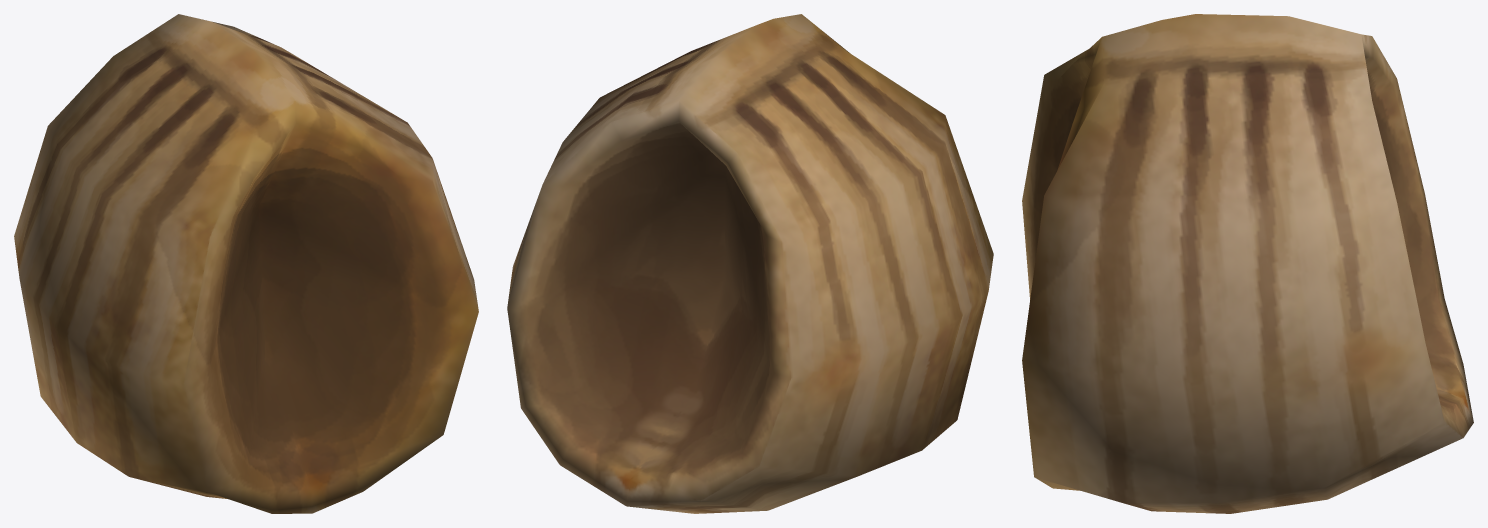
The model's file is Bones_03.fbx.
3 renders of one model, left to right at view 1: azimuth 30°, elevation 25°; view 2: azimuth 150°, elevation 25°; view 3: azimuth 270°, elevation 25°, orthographic. The views are drawn at different scales.
Parts seen in each view (by area): view 1: Bones_03; view 2: Bones_03; view 3: Bones_03.
Part boxes in pixels (x1,y1,x2,y2): Bones_03: (14,14,478,513); Bones_03: (507,14,993,513); Bones_03: (1022,14,1473,513).
Bounding box in the file's own units: 50.84 × 54.36 × 46.41.
